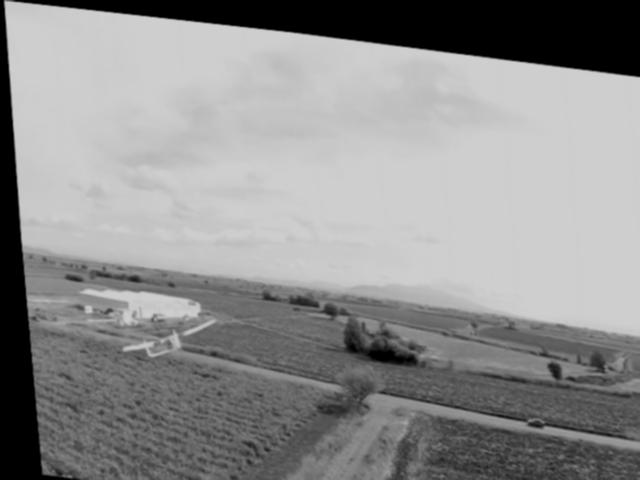hedef: (110, 300, 218, 372)
